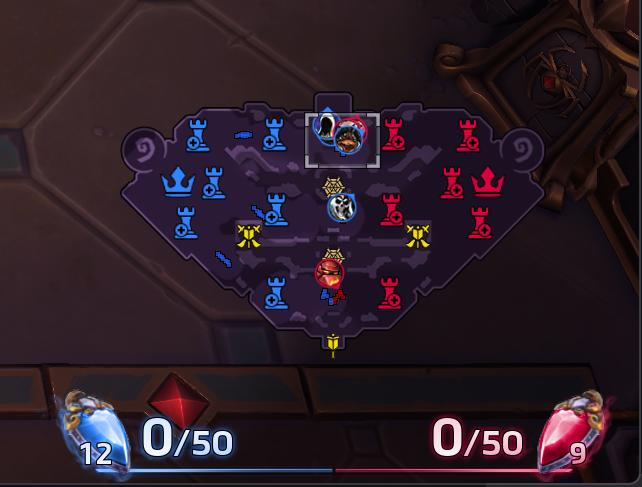blue nexus: (159, 164, 196, 197)
blue player: (332, 120, 364, 155), (312, 107, 340, 145), (327, 192, 356, 223)
blue tower: (261, 191, 290, 226), (261, 116, 287, 151), (184, 117, 210, 152), (173, 204, 199, 239), (200, 165, 226, 199), (263, 275, 288, 309)
red nexus: (470, 164, 505, 197)
red player: (314, 258, 344, 288)
red tower: (454, 117, 480, 152), (378, 191, 403, 226), (381, 116, 406, 151), (467, 205, 492, 239), (439, 165, 464, 199), (377, 275, 402, 309)
